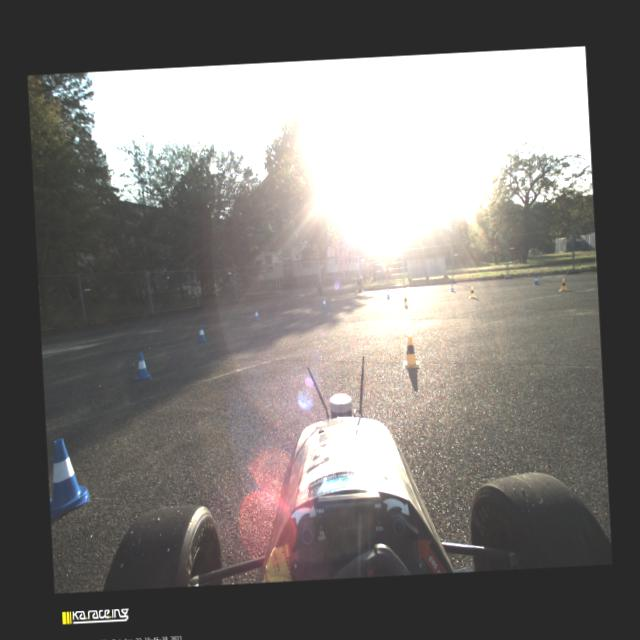blue_cone: (46, 436, 90, 518), (133, 351, 152, 382), (196, 324, 206, 342), (253, 308, 260, 320), (534, 274, 539, 284), (322, 296, 326, 308), (386, 289, 390, 299), (451, 282, 454, 292)
yellow_cone: (402, 336, 420, 370), (559, 278, 568, 292), (468, 286, 476, 298), (402, 296, 408, 307)
